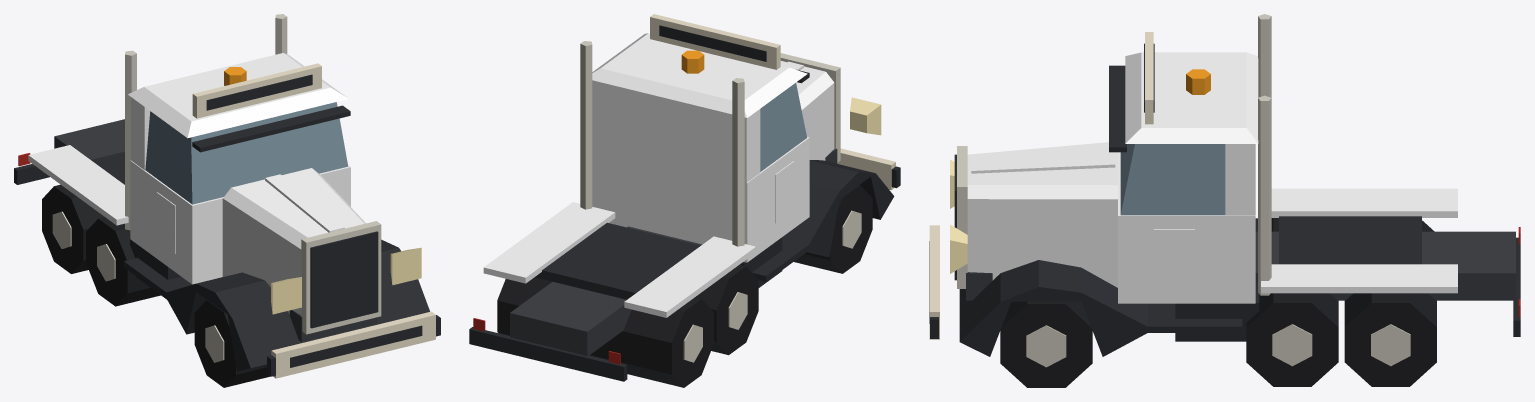
Rendered from ll_tractor.glb.
3 views of the same model, side by side, from view 1: azimuth 30°, elevation 25°; view 2: azimuth 150°, elevation 25°; view 3: azimuth 270°, elevation 25° (orthographic). The views are drawn at different scales.
Parts seen in each view (by area): view 1: model; view 2: model; view 3: model.
Part boxes in pixels (x1,y1,x2,y2): model: (14, 14, 440, 387); model: (469, 14, 900, 387); model: (929, 14, 1520, 387).
Bounding box in the file's own units: 2.64 × 3.48 × 6.61.
